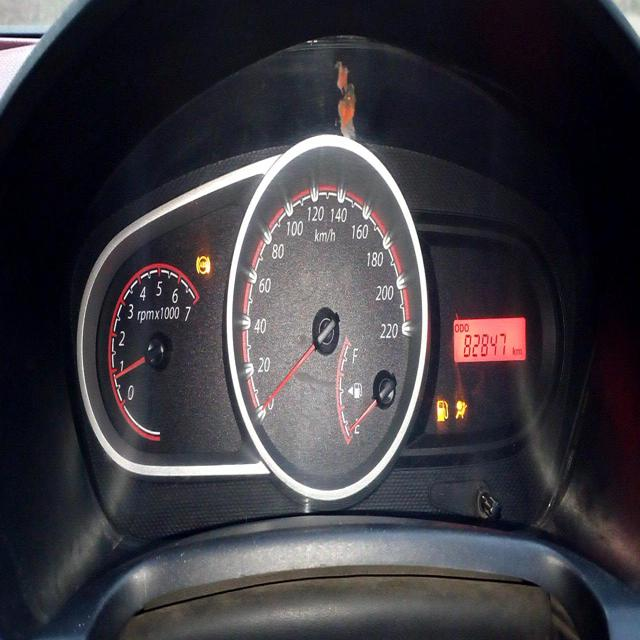odometer: (462, 331, 507, 360)
